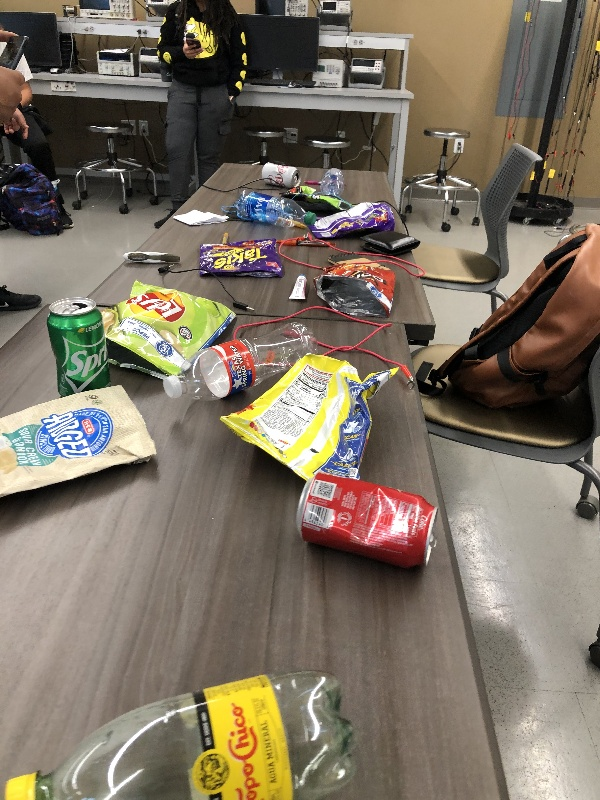bag: (213, 349, 401, 481), (1, 378, 165, 512), (105, 278, 238, 385), (313, 259, 397, 322), (196, 238, 288, 279), (314, 199, 395, 240), (287, 181, 356, 214)
bottle: (4, 666, 367, 800), (161, 320, 324, 407), (232, 186, 319, 235), (324, 163, 348, 196)
can: (295, 469, 444, 569), (44, 297, 119, 399), (253, 160, 304, 190)
